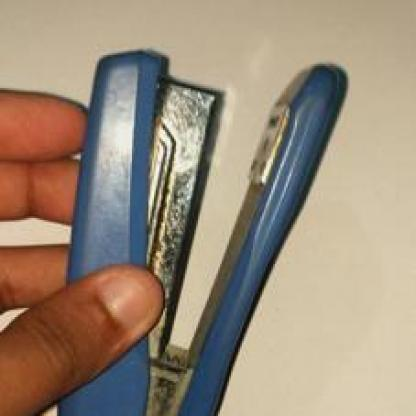stapler: (76, 17, 338, 415)
